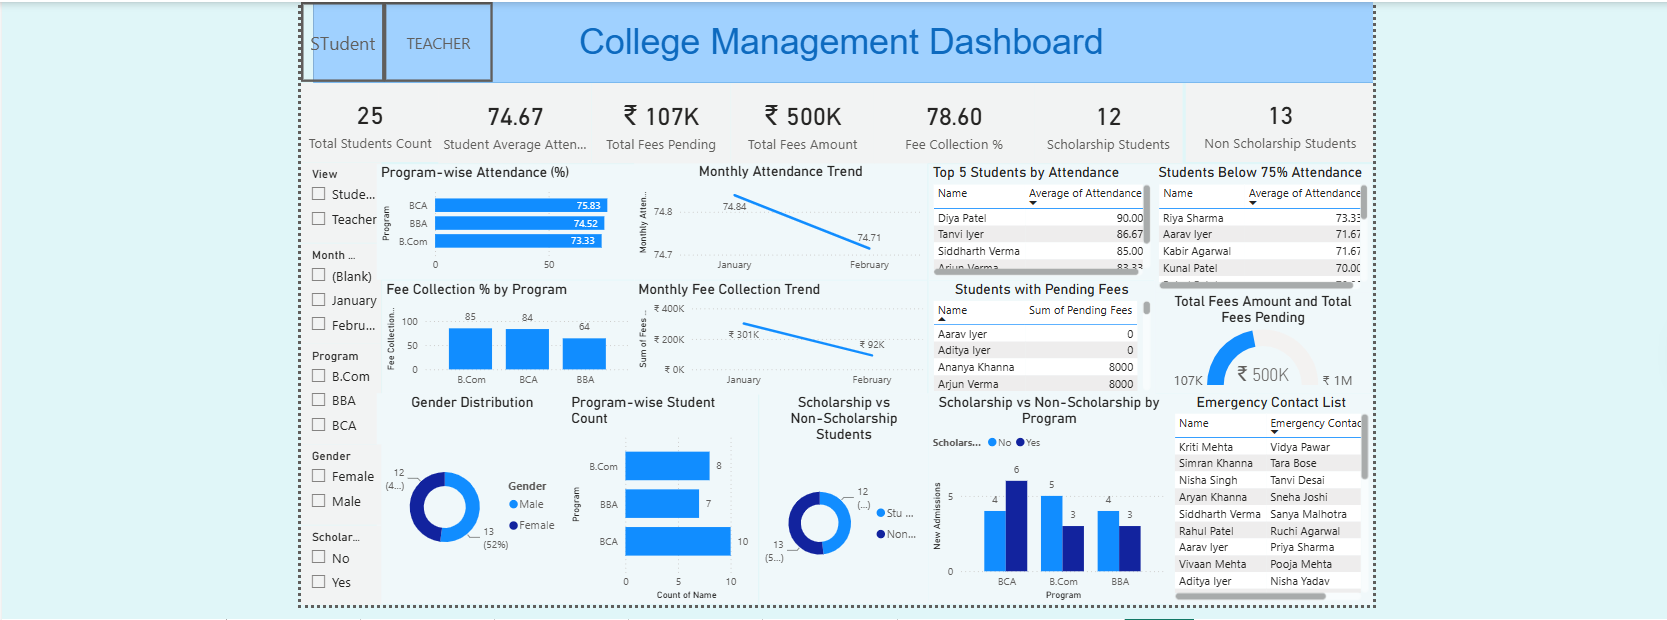

Layout of this report page (visuals, bound fields, positions):
{"tool":"powerbi","page":{"name":"Main dashboard","canvas":[1280,720],"ordinal":5},"visuals":[{"type":"card","fields":{"Values":["Students.Total Students Count"]},"box":[0,97,165.2,94.4],"z":0,"group":"g1"},{"type":"slicer","title":"Slicer 2","fields":{"Values":["Date.Month Name"]},"box":[0,288,96,120],"z":0},{"type":"card","fields":{"Values":["Students.Student Average Attendance %"]},"box":[165.1,95.8,182.8,95.8],"z":1000,"group":"g1"},{"type":"slicer","title":"Slicer 1","fields":{"Values":["DashboardSelector.View"]},"box":[0,192,96,96],"z":1000},{"type":"shape","box":[14.2,0,1272,96],"z":2000,"group":"g1"},{"type":"group","id":"g1","title":"student_group","box":[0,0,1286.2,720],"z":3000},{"type":"actionButton","box":[99.8,0,130.1,95.4],"z":4000},{"type":"lineChart","title":"Monthly Attendance Trend","fields":{"Category":["Date.Month Name"],"Y":["Date.Monthly Attendance %"]},"box":[398,192,350,140],"z":4000,"group":"g1"},{"type":"actionButton","box":[0,0,99.8,95.4],"z":5000},{"type":"barChart","title":"Program-wise Attendance (%)","fields":{"Category":["Students.Program"],"Y":["Avg(Students.Attendance)"]},"box":[90,194,308,138],"z":5000,"group":"g1"},{"type":"actionButton","box":[14.2,0,95.4,95.4],"z":6000,"group":"g1"},{"type":"tableEx","title":"Top 5 Students by Attendance","fields":{"Values":["Students.Name","Avg(Students.Attendance)"]},"box":[748,194,270,138],"z":7000,"group":"g1"},{"type":"tableEx","title":"Students Below 75% Attendance","fields":{"Values":["Students.Name","Avg(Students.Attendance)"]},"box":[1018,194,260,154],"z":8000,"group":"g1"},{"type":"slicer","fields":{"Values":["Students.Program"]},"box":[0,408,96,120],"z":9000,"group":"g1"},{"type":"textbox","box":[14.2,0,1272,96],"z":10000,"group":"g1"},{"type":"gauge","fields":{"Y":["Students.Total Fees Amount"],"MinValue":["Students.Total Fees Pending"]},"box":[1018,348,260,120],"z":11000,"group":"g1"},{"type":"columnChart","fields":{"Category":["Students.Program"],"Y":["Students.Fee Collection %"]},"box":[96,332,302,136],"z":12000,"group":"g1"},{"type":"lineChart","title":"Monthly Fee Collection Trend","fields":{"Y":["Sum(Fee Payment Monthly.Fees Paid Amount)"],"Category":["Date.Month Name"]},"box":[398,332,350,136],"z":13000,"group":"g1"},{"type":"tableEx","title":"Students with Pending Fees","fields":{"Values":["Students.Name","Sum(Students.Pending Fees)"]},"box":[748,332,270,136],"z":14000,"group":"g1"},{"type":"card","fields":{"Values":["Students.Total Fees Pending"]},"box":[347.9,95.8,165.4,95.8],"z":15000,"group":"g1"},{"type":"card","fields":{"Values":["Students.Total Fees Amount"]},"box":[513.3,95.8,171.2,95.8],"z":16000,"group":"g1"},{"type":"donutChart","title":"Gender Distribution","fields":{"Series":["Students.Gender"],"Y":["CountNonNull(Students.Name)"],"Category":["Students.Gender"]},"box":[90,468,228,252],"z":17000,"group":"g1"},{"type":"card","fields":{"Values":["Students.Fee Collection %"]},"box":[684.5,95.8,191.5,95.8],"z":18000,"group":"g1"},{"type":"clusteredBarChart","title":"Program-wise Student Count","fields":{"Y":["CountNonNull(Students.Name)"],"Category":["Students.Program"]},"box":[318,468,228,252],"z":19000,"group":"g1"},{"type":"donutChart","title":"Scholarship vs Non-Scholarship Students","fields":{"Y":["Students.Scholarship Students","Students.Non Scholarship Students"]},"box":[546,468,202,252],"z":20000,"group":"g1"},{"type":"slicer","fields":{"Values":["Students.Scholarship (Yes/No)"]},"box":[0,624,96,96],"z":21000,"group":"g1"},{"type":"tableEx","title":"Emergency Contact List","fields":{"Values":["Students.Name","Students.Emergency Contact Name "]},"box":[1036,468,242,252],"z":22000,"group":"g1"},{"type":"clusteredColumnChart","title":"Scholarship vs Non-Scholarship by Program","fields":{"Category":["Students.Program"],"Y":["Date.New Admissions"],"Series":["Students.Scholarship (Yes/No)"]},"box":[748,468,288,252],"z":23000,"group":"g1"},{"type":"slicer","fields":{"Values":["Students.Gender"]},"box":[0,528,96,96],"z":24000,"group":"g1"},{"type":"card","fields":{"Values":["Students.Scholarship Students"]},"box":[876.1,95.8,177,95.8],"z":25000,"group":"g1"},{"type":"card","fields":{"Values":["Students.Non Scholarship Students"]},"box":[1056.6,97,225.5,94.4],"z":26000,"group":"g1"}]}

Visuals, with their boxes on the page's 1280x720 design canvas (x1, y1, x2, y2). These are canvas units, not pixel positions in the 1667x620 screenshot, which may show the page scaled, cropped or inside an application window:
card - Students.Total Students Count: detection(0, 97, 165, 191)
"Slicer 2" slicer: detection(0, 288, 96, 408)
card - Students.Student Average Attendance %: detection(165, 96, 348, 192)
"Slicer 1" slicer: detection(0, 192, 96, 288)
shape: detection(14, 0, 1286, 96)
"student_group" group: detection(0, 0, 1286, 720)
actionButton: detection(100, 0, 230, 95)
"Monthly Attendance Trend" lineChart: detection(398, 192, 748, 332)
actionButton: detection(0, 0, 100, 95)
"Program-wise Attendance (%)" barChart: detection(90, 194, 398, 332)
actionButton: detection(14, 0, 110, 95)
"Top 5 Students by Attendance" tableEx: detection(748, 194, 1018, 332)
"Students Below 75% Attendance" tableEx: detection(1018, 194, 1278, 348)
slicer - Students.Program: detection(0, 408, 96, 528)
textbox: detection(14, 0, 1286, 96)
gauge - Students.Total Fees Amount x Students.Total Fees Pending: detection(1018, 348, 1278, 468)
columnChart - Students.Program x Students.Fee Collection %: detection(96, 332, 398, 468)
"Monthly Fee Collection Trend" lineChart: detection(398, 332, 748, 468)
"Students with Pending Fees" tableEx: detection(748, 332, 1018, 468)
card - Students.Total Fees Pending: detection(348, 96, 513, 192)
card - Students.Total Fees Amount: detection(513, 96, 684, 192)
"Gender Distribution" donutChart: detection(90, 468, 318, 720)
card - Students.Fee Collection %: detection(684, 96, 876, 192)
"Program-wise Student Count" clusteredBarChart: detection(318, 468, 546, 720)
"Scholarship vs Non-Scholarship Students" donutChart: detection(546, 468, 748, 720)
slicer - Students.Scholarship (Yes/No): detection(0, 624, 96, 720)
"Emergency Contact List" tableEx: detection(1036, 468, 1278, 720)
"Scholarship vs Non-Scholarship by Program" clusteredColumnChart: detection(748, 468, 1036, 720)
slicer - Students.Gender: detection(0, 528, 96, 624)
card - Students.Scholarship Students: detection(876, 96, 1053, 192)
card - Students.Non Scholarship Students: detection(1057, 97, 1282, 191)
